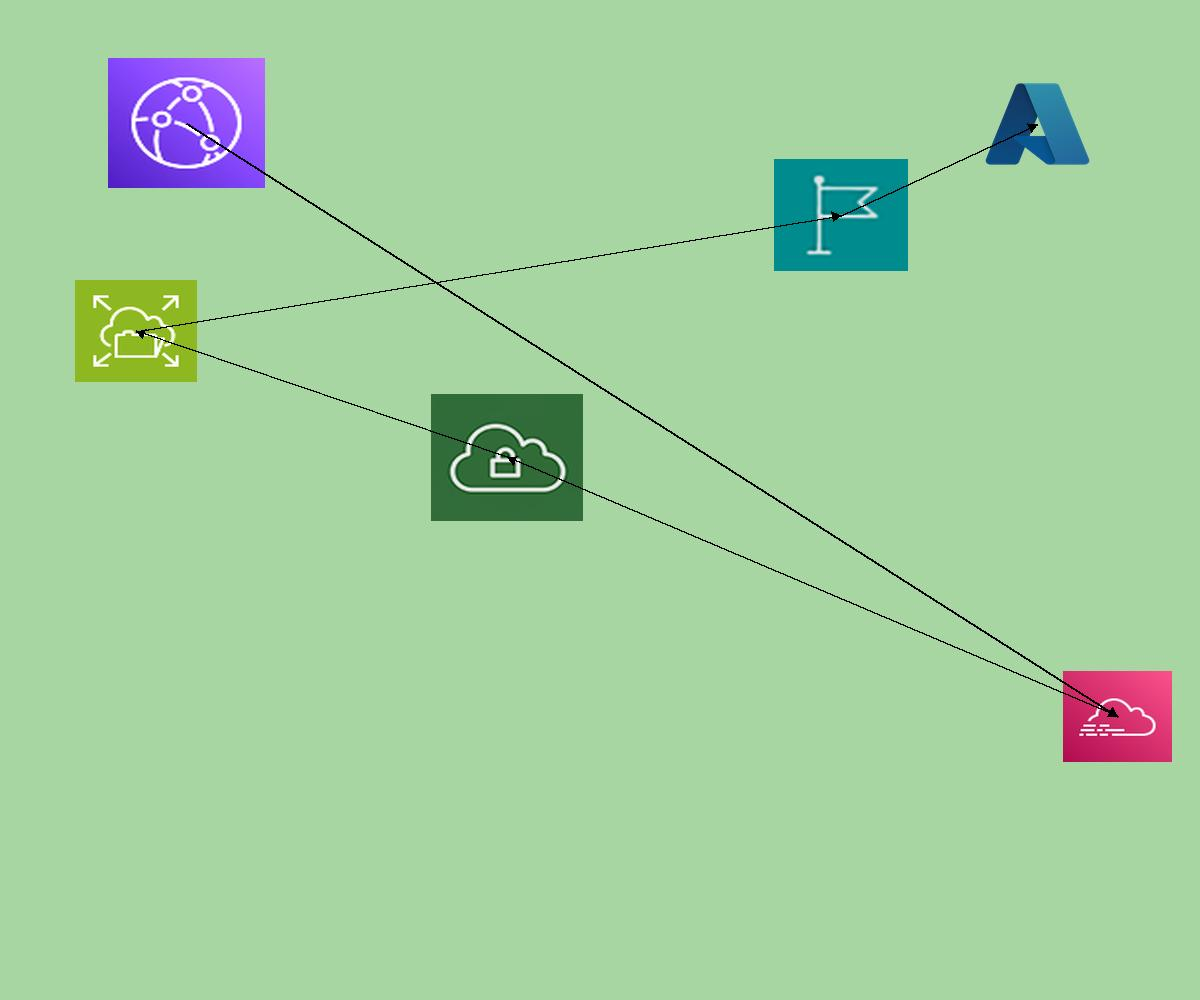AWS-CloudFront: (108, 58, 265, 188)
AWS-CloudTrail: (1063, 671, 1172, 762)
AWS-EFS: (75, 280, 197, 382)
AWS-Private_vpc: (431, 394, 583, 521)
AWS-Region: (774, 159, 908, 271)
Azure_services: (981, 77, 1094, 171)
